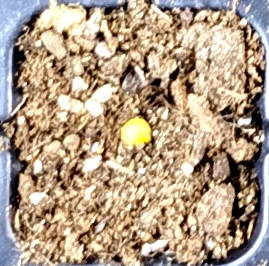pepper seed: (42, 44, 196, 190)
